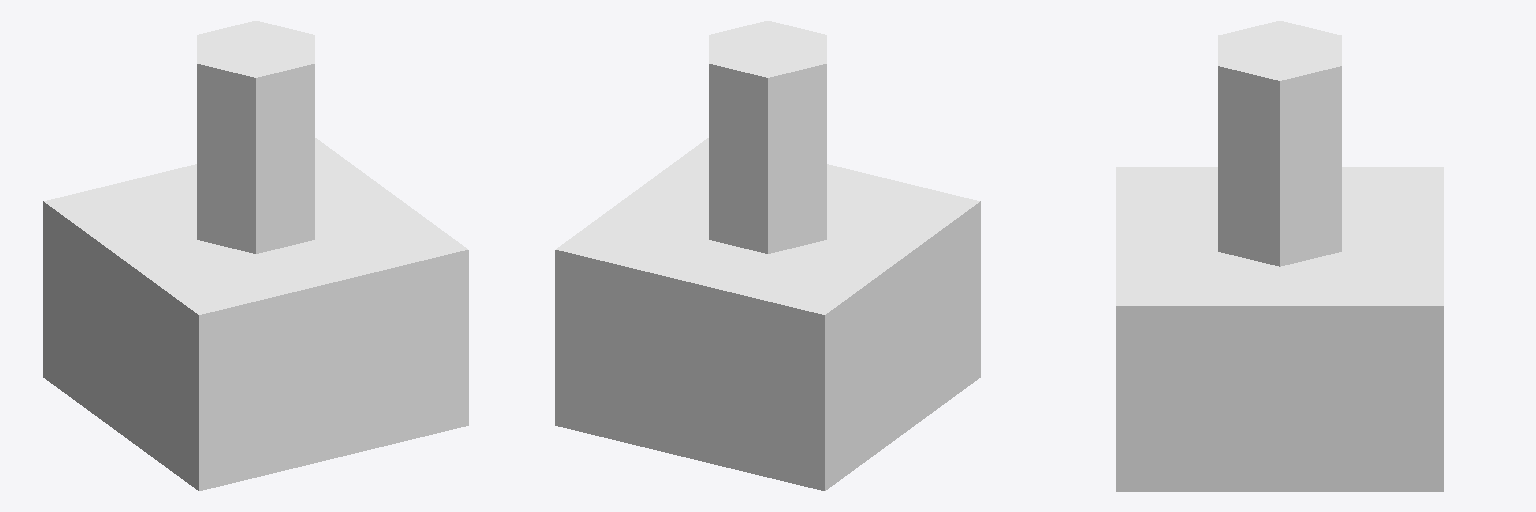
The robot description file, URDF, robot "hexagon":
<robot name="hexagon">
	<link name="_name">
		<visual>
			<origin rpy="0 0 0" xyz="0.0 0.0 -0.006916331440361845" />
			<geometry>
				<mesh filename="hexagon.obj" scale=".001 .001 .001" />
			</geometry>
			<material name="texture">
				<color rgba="1.0 1.0 1.0 1.0" />
			</material>
		</visual>
		<collision>
			<geometry>
				<mesh filename="hexagon_vhacd.obj" scale=".001 .001 .001" />
			</geometry>
		<origin rpy="0 0 0" xyz="0.0 0.0 -0.006916331440361845" /></collision>
		<inertial>
			<mass value="1.0" />
			<inertia ixx="1.0" ixy="0.0" ixz="0.0" iyy="1.0" iyz="0.0" izz="1.0" />
		</inertial>
	</link>
</robot>

--- Render facts (derived) ---
The picture shows the robot from 3 angles, left to right: view 1: azimuth 30°, elevation 25°; view 2: azimuth 150°, elevation 25°; view 3: azimuth 270°, elevation 25°; orthographic projection.
Robot: hexagon — 1 links, 0 joints (none); root link _name; default pose: every joint at zero.
Links seen in each view (by area): view 1: _name; view 2: _name; view 3: _name.
Boxes of the visible links, x1=… form: _name: x1=43, y1=21, x2=468, y2=490; _name: x1=555, y1=21, x2=980, y2=490; _name: x1=1116, y1=21, x2=1443, y2=491.
Size in the robot's own frame: 0.016 by 0.016 by 0.02 metres.
Meshes: 1 distinct files referenced, 1 mesh visuals loaded (1 OBJ).